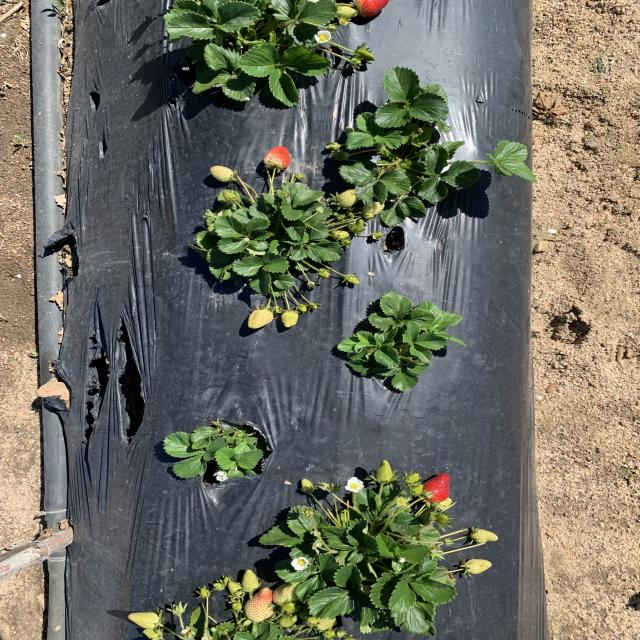unripe: (419, 472, 456, 507), (354, 0, 390, 19), (265, 146, 291, 169)
